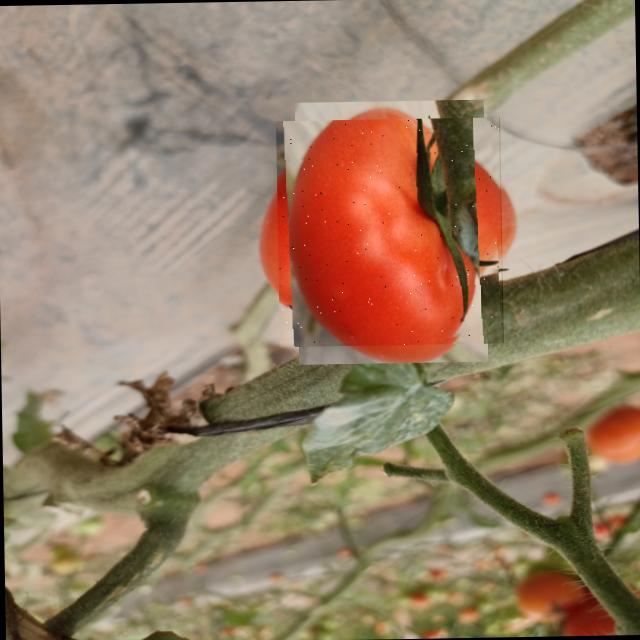Ripe Tomato: (276, 116, 506, 346)
